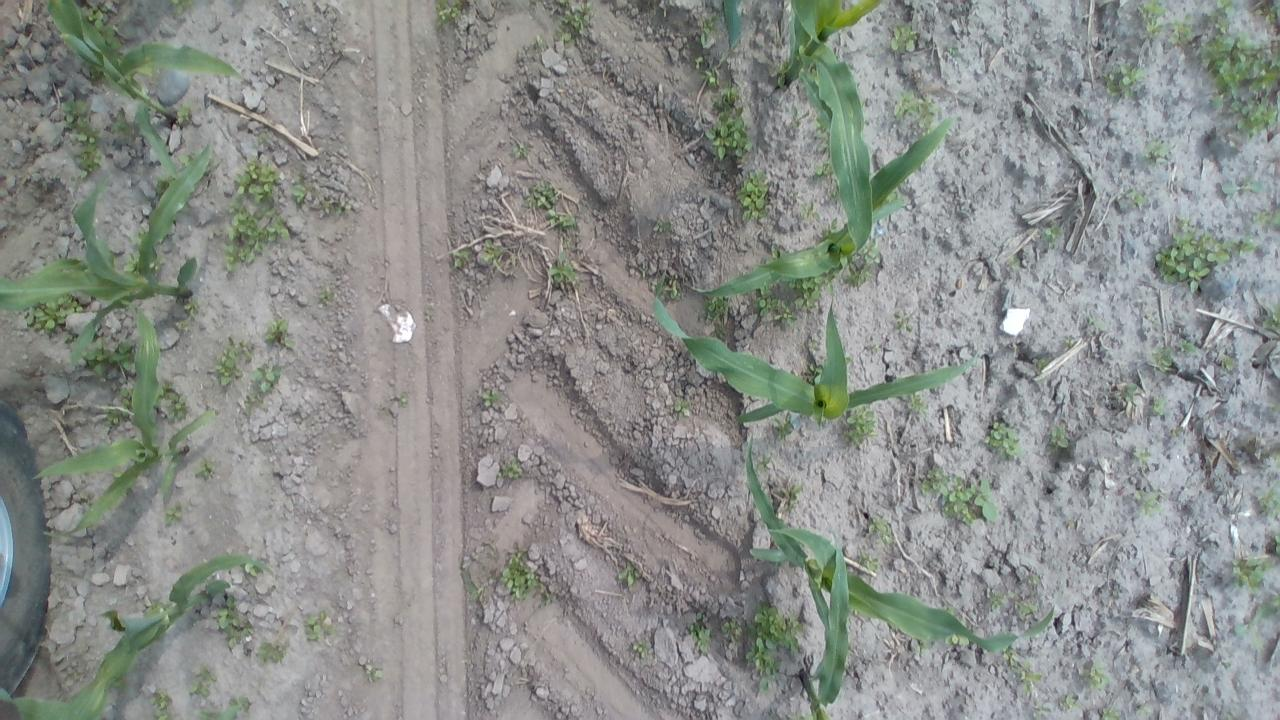Maize: (741, 430, 1055, 654), (684, 97, 954, 303), (647, 285, 976, 428), (1, 148, 212, 366), (34, 300, 218, 544), (0, 557, 274, 720), (46, 0, 249, 180), (774, 0, 884, 256), (788, 538, 849, 720), (722, 0, 743, 52)
Weeds: (1201, 28, 1280, 136), (1152, 215, 1256, 286), (746, 601, 802, 693), (918, 468, 999, 526), (224, 206, 288, 270), (500, 548, 557, 606), (61, 98, 102, 178), (1231, 534, 1280, 593), (704, 108, 754, 159), (1233, 596, 1280, 648), (234, 158, 282, 206), (244, 363, 282, 418), (83, 340, 136, 378), (214, 596, 252, 648), (1002, 647, 1044, 694), (846, 237, 882, 287), (736, 170, 770, 221), (895, 88, 937, 128), (1148, 338, 1196, 373), (1105, 61, 1147, 99), (984, 419, 1023, 459), (217, 340, 250, 387), (27, 300, 77, 330), (557, 4, 594, 44), (88, 5, 121, 47), (1009, 573, 1041, 616), (844, 405, 876, 447), (102, 384, 134, 424), (759, 294, 798, 324), (791, 276, 822, 312), (1136, 1, 1166, 38), (188, 664, 219, 698), (302, 610, 332, 644), (120, 226, 142, 272), (690, 614, 714, 654), (888, 22, 918, 52), (1255, 487, 1280, 523), (255, 637, 287, 665), (696, 55, 723, 88), (550, 252, 576, 286), (526, 183, 560, 209), (150, 688, 177, 720), (264, 317, 291, 348), (130, 594, 167, 616), (1210, 0, 1236, 31), (1220, 178, 1262, 197), (1170, 15, 1194, 48), (164, 390, 188, 423), (1084, 660, 1112, 688), (478, 240, 505, 269), (1046, 423, 1073, 450), (1134, 488, 1160, 516), (711, 86, 743, 108), (322, 194, 352, 217), (1144, 138, 1170, 164), (1254, 1, 1280, 26), (1038, 221, 1062, 248), (290, 174, 311, 204), (779, 485, 804, 510), (436, 1, 464, 23), (871, 516, 892, 545), (614, 564, 640, 587), (814, 117, 831, 152), (702, 296, 729, 318), (630, 638, 656, 660), (179, 146, 207, 166), (548, 208, 576, 228), (1252, 208, 1280, 228), (721, 618, 743, 642), (698, 16, 717, 43), (1030, 354, 1052, 376), (986, 588, 1008, 610), (500, 458, 522, 480), (156, 171, 178, 193), (772, 418, 792, 442), (658, 276, 679, 298), (1122, 187, 1144, 208), (164, 504, 185, 526), (1262, 302, 1278, 330), (907, 395, 928, 416), (193, 459, 214, 480), (176, 102, 196, 124), (453, 245, 471, 269), (80, 61, 102, 80), (1084, 313, 1107, 331), (812, 160, 832, 180), (798, 202, 818, 222), (362, 662, 382, 682), (182, 298, 202, 318), (170, 0, 195, 16), (113, 112, 129, 136), (465, 578, 482, 600), (807, 361, 823, 384), (1099, 704, 1122, 720), (481, 390, 504, 406), (1132, 446, 1150, 466), (246, 563, 267, 580), (862, 552, 878, 574), (390, 394, 412, 410), (757, 455, 775, 474), (946, 635, 972, 648), (514, 140, 530, 160), (226, 696, 252, 708), (1008, 256, 1025, 274), (653, 219, 671, 236), (674, 399, 691, 417), (1060, 694, 1079, 710), (1149, 396, 1165, 414), (1122, 383, 1140, 399), (789, 104, 800, 130), (110, 678, 130, 692), (945, 44, 962, 60), (1220, 352, 1235, 370), (894, 314, 909, 332), (422, 309, 438, 325), (1136, 702, 1150, 720), (806, 338, 820, 356), (776, 61, 786, 86), (320, 290, 338, 303), (942, 601, 957, 616), (826, 219, 839, 236), (534, 35, 545, 51), (1062, 334, 1076, 346), (918, 641, 932, 650), (846, 350, 852, 369), (111, 470, 123, 478)
